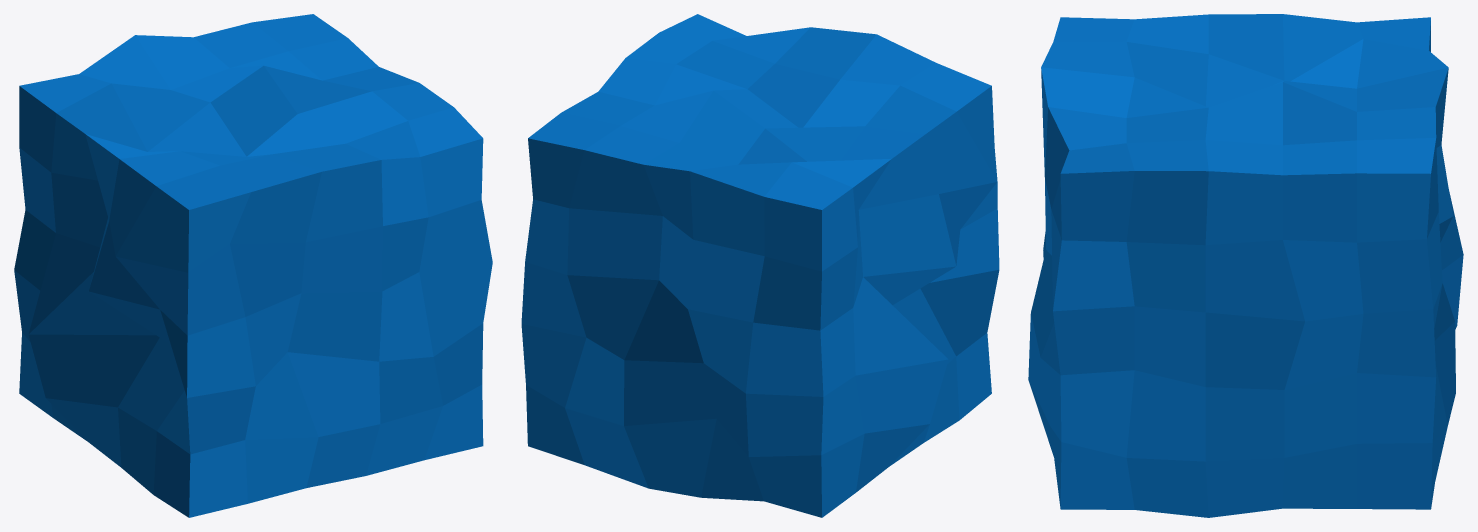
Rendered from water_cube2.fbx.
3 renders of one model, left to right at view 1: azimuth 30°, elevation 25°; view 2: azimuth 150°, elevation 25°; view 3: azimuth 270°, elevation 25°, orthographic. The views are drawn at different scales.
Visible parts, largest first — view 1: Cube; view 2: Cube; view 3: Cube.
Boxes of the visible parts, left/top/right/bottom form: Cube: left=14, top=14, right=492, bottom=517; Cube: left=521, top=14, right=999, bottom=517; Cube: left=1028, top=14, right=1463, bottom=517.
Size of the model in its own units: 129 by 122 by 117.
